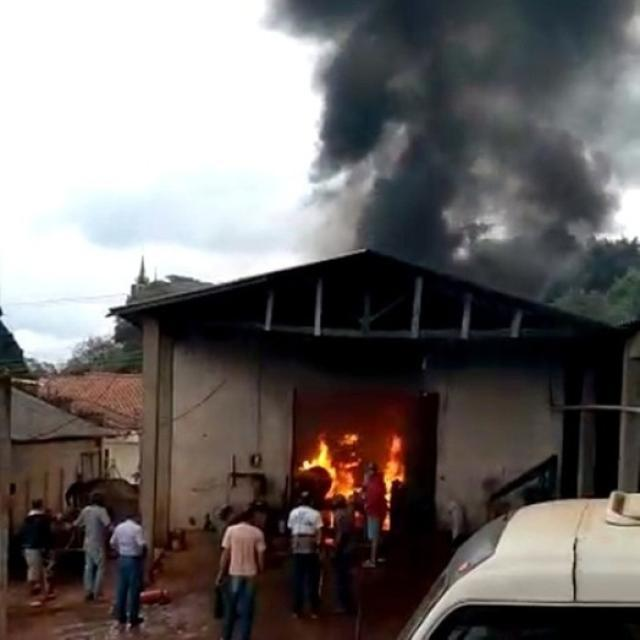Fire: (297, 429, 364, 504), (381, 432, 406, 532)
Smoke: (259, 1, 640, 304)
